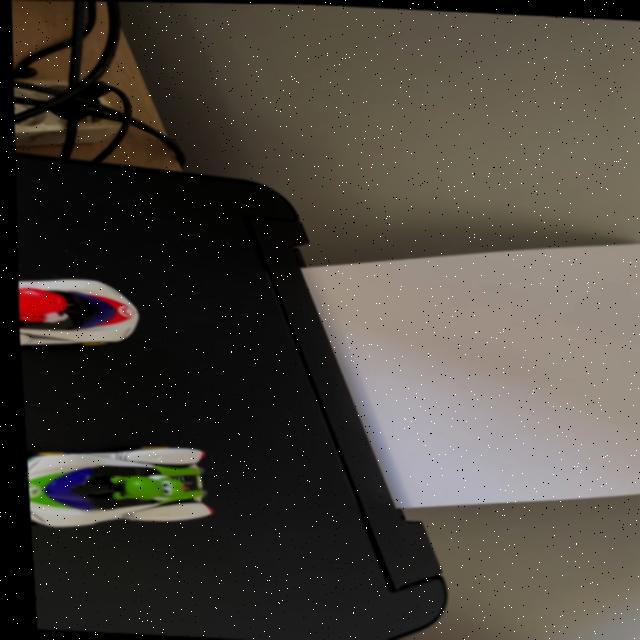mario: (13, 272, 157, 365)
yoshi: (20, 432, 225, 543)
